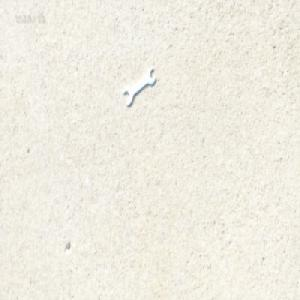Wrench: (123, 67, 156, 106)
